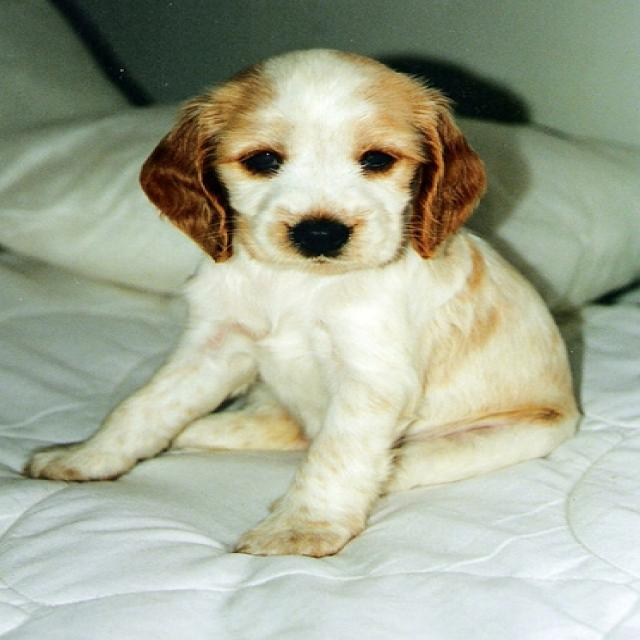dog-english_cocker_spaniel: (14, 37, 587, 566)
